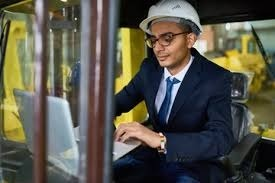helmet: (138, 1, 205, 37)
person with partial safety: (135, 1, 222, 183)
